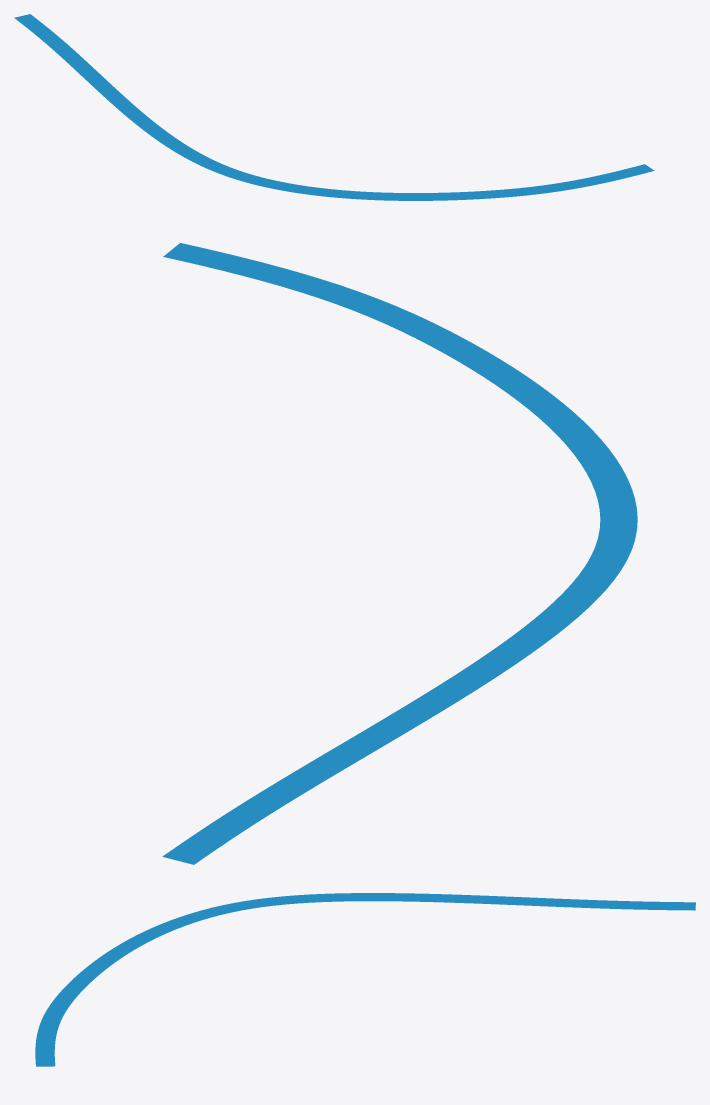
File: guide.glb
3 views of the same model, one above another, from view 1: azimuth 30°, elevation 25°; view 2: azimuth 150°, elevation 25°; view 3: azimuth 270°, elevation 25° (orthographic). The views are drawn at different scales.
Visible parts, largest first — view 1: static; view 2: static; view 3: static.
Part boxes in pixels (x1,y1,x2,y2): static: (14, 14, 654, 200); static: (162, 243, 637, 864); static: (35, 893, 695, 1066).
Size of the model in its own units: 7.71 by 0 by 11.22.
